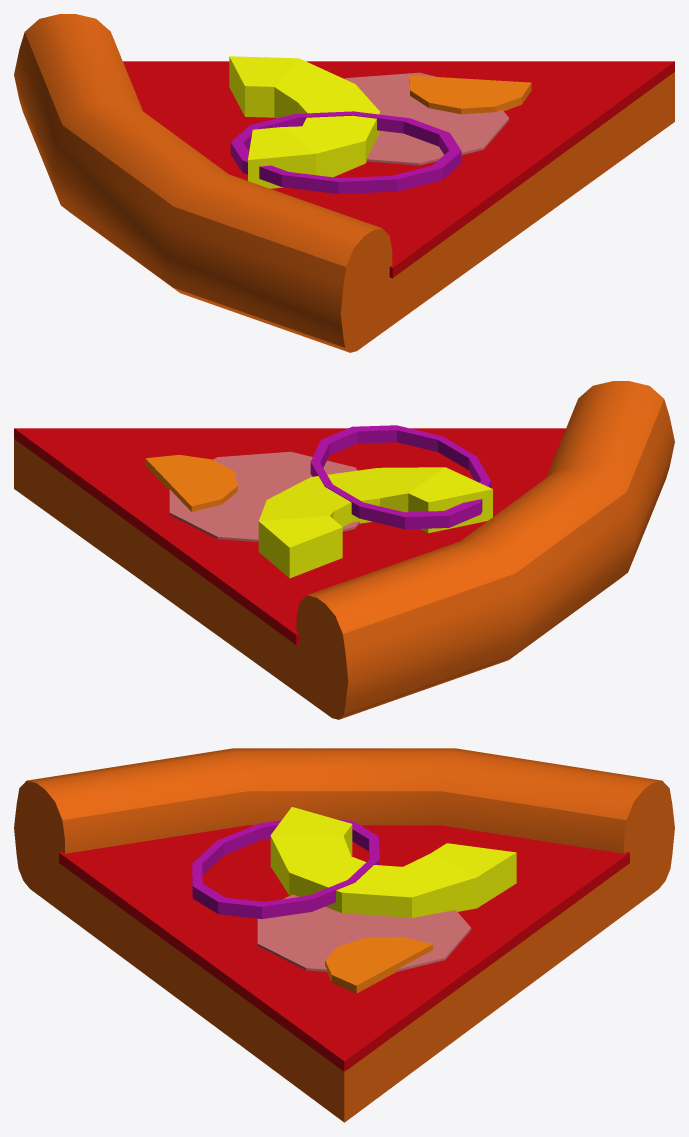
Rendered from Pizza 5.fbx.
The picture shows the model from 3 angles, top to bottom: view 1: azimuth 30°, elevation 25°; view 2: azimuth 150°, elevation 25°; view 3: azimuth 270°, elevation 25°; orthographic projection.
Parts seen in each view (by area): view 1: Pizza 5; view 2: Pizza 5; view 3: Pizza 5.
Part boxes in pixels (x1,y1,x2,y2): Pizza 5: [14, 14, 674, 352]; Pizza 5: [14, 381, 674, 719]; Pizza 5: [14, 748, 674, 1122].
Size of the model in its own units: 1.71 by 1.71 by 0.3167.
